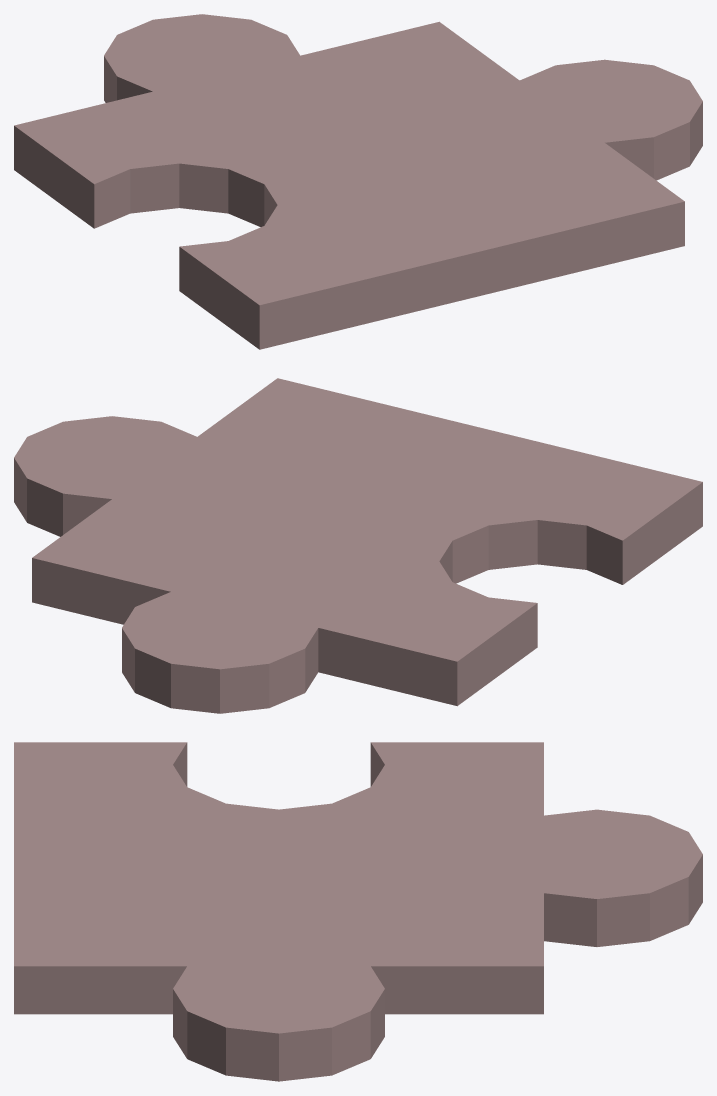
Rendered from Puzzle_06_MOD.fbx.
3 renders of one model, top to bottom at view 1: azimuth 30°, elevation 25°; view 2: azimuth 150°, elevation 25°; view 3: azimuth 270°, elevation 25°, orthographic. The views are drawn at different scales.
Visible parts, largest first — view 1: polySurface40; view 2: polySurface40; view 3: polySurface40.
Part boxes in pixels (bbox=[...]): polySurface40: bbox=[14, 14, 702, 349]; polySurface40: bbox=[14, 378, 702, 713]; polySurface40: bbox=[14, 742, 702, 1081].
Size of the model in its own units: 6.5 by 0.5 by 6.5.
